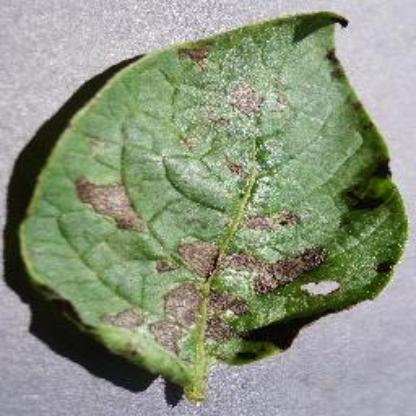Early-Blight: (7, 9, 415, 409)
